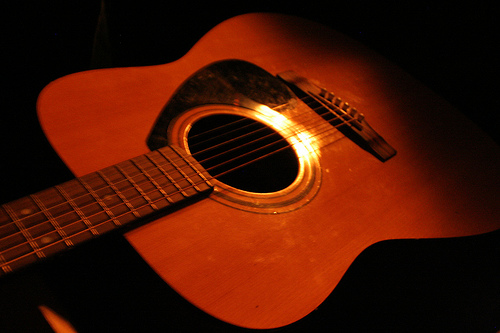guitar: (1, 7, 496, 329)
